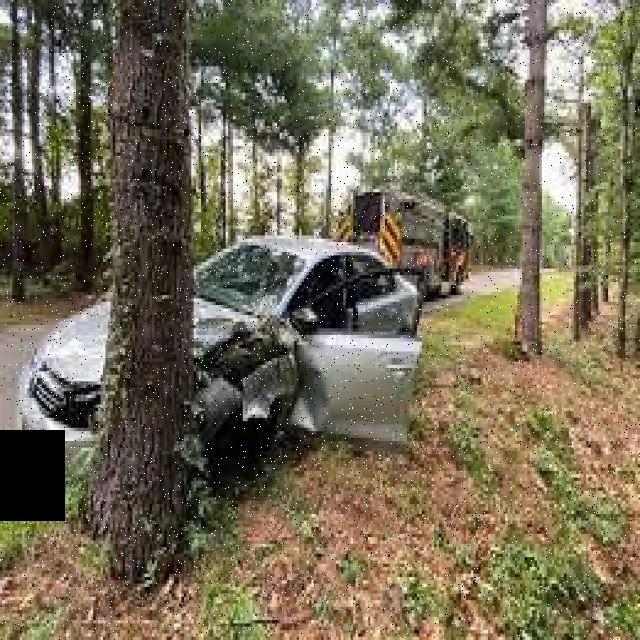moderate: (9, 218, 432, 528)
